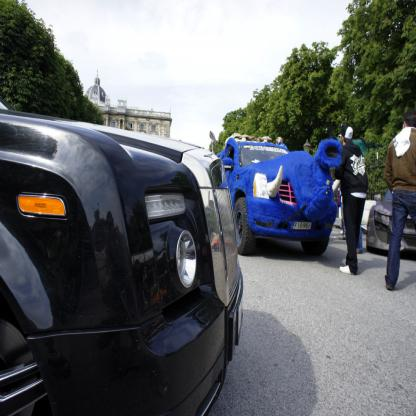Car: (0, 95, 243, 416), (217, 133, 341, 255), (366, 188, 415, 253)
